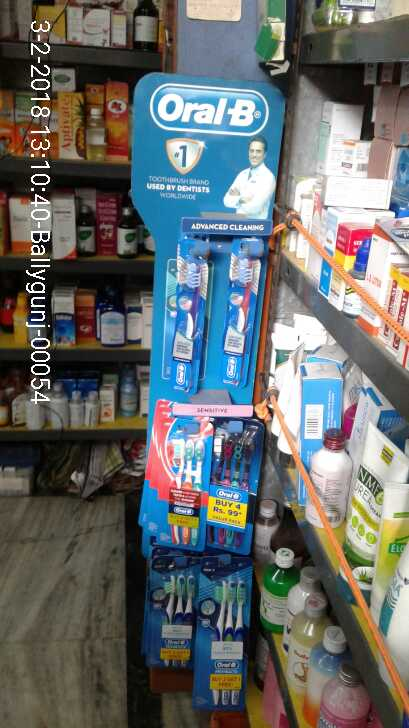oralb: (197, 558, 252, 710), (165, 239, 212, 402), (144, 550, 205, 671), (210, 414, 259, 558), (159, 416, 208, 556), (217, 239, 258, 386)
